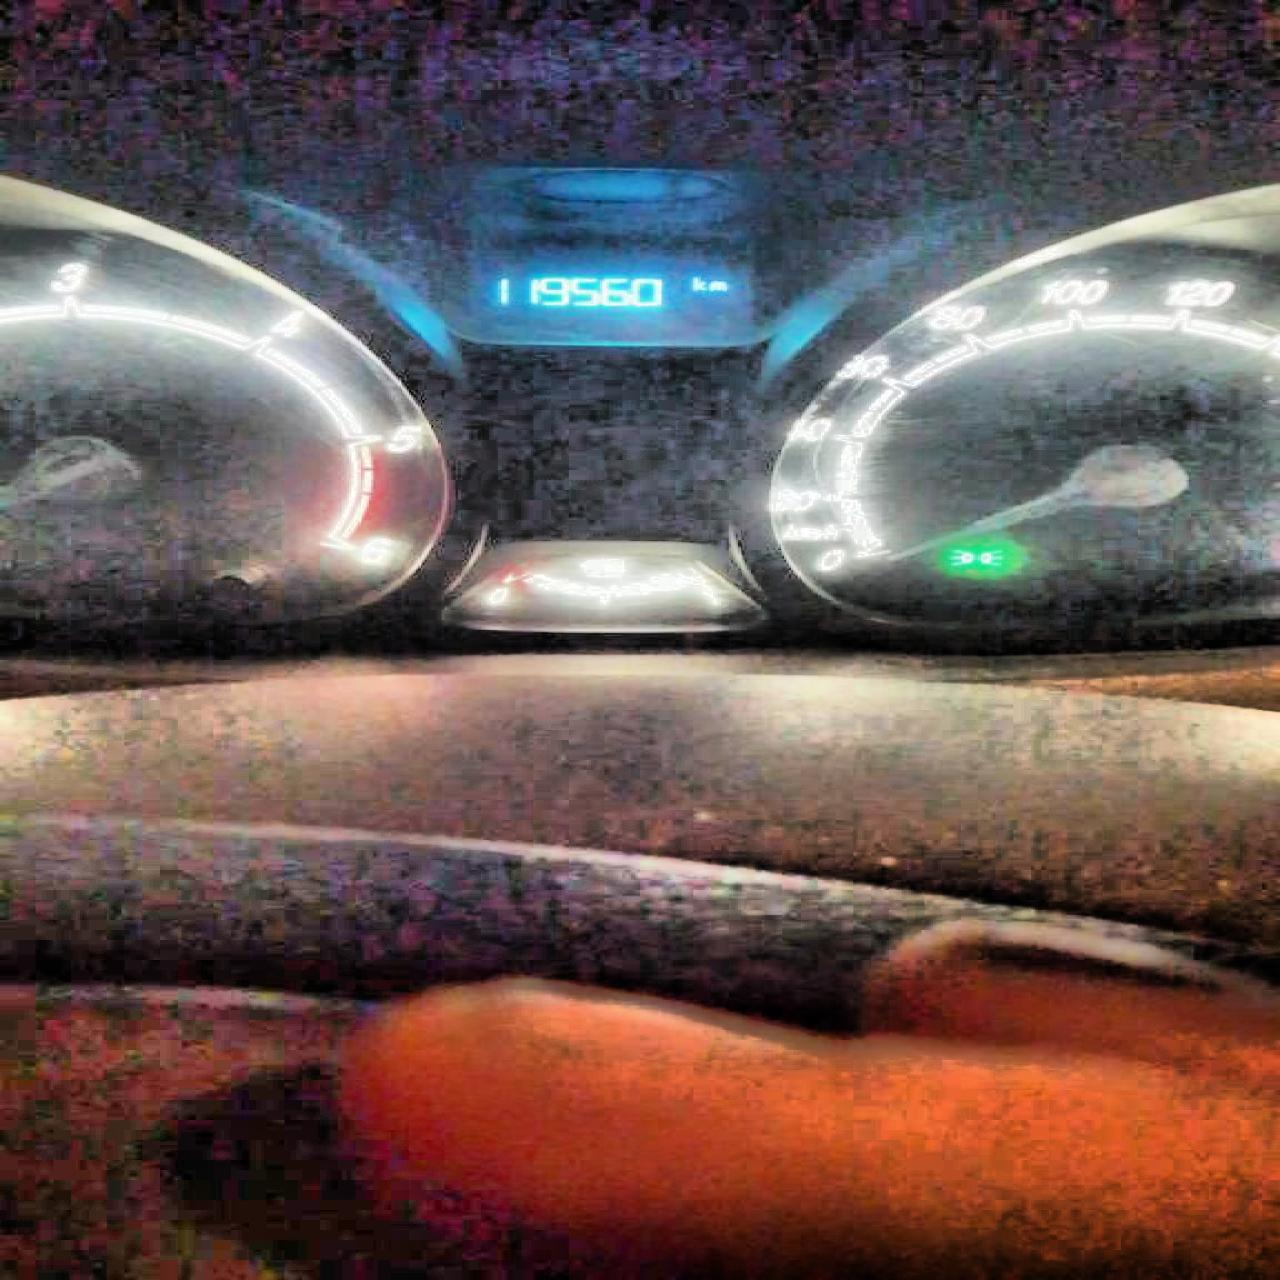0: (628, 273, 662, 308)
1: (489, 275, 509, 306), (523, 275, 538, 306)
5: (568, 277, 598, 308)
6: (598, 277, 629, 307)
9: (538, 275, 568, 306)
X: (689, 273, 704, 293), (707, 278, 727, 293)
odometer: (434, 250, 798, 349)
